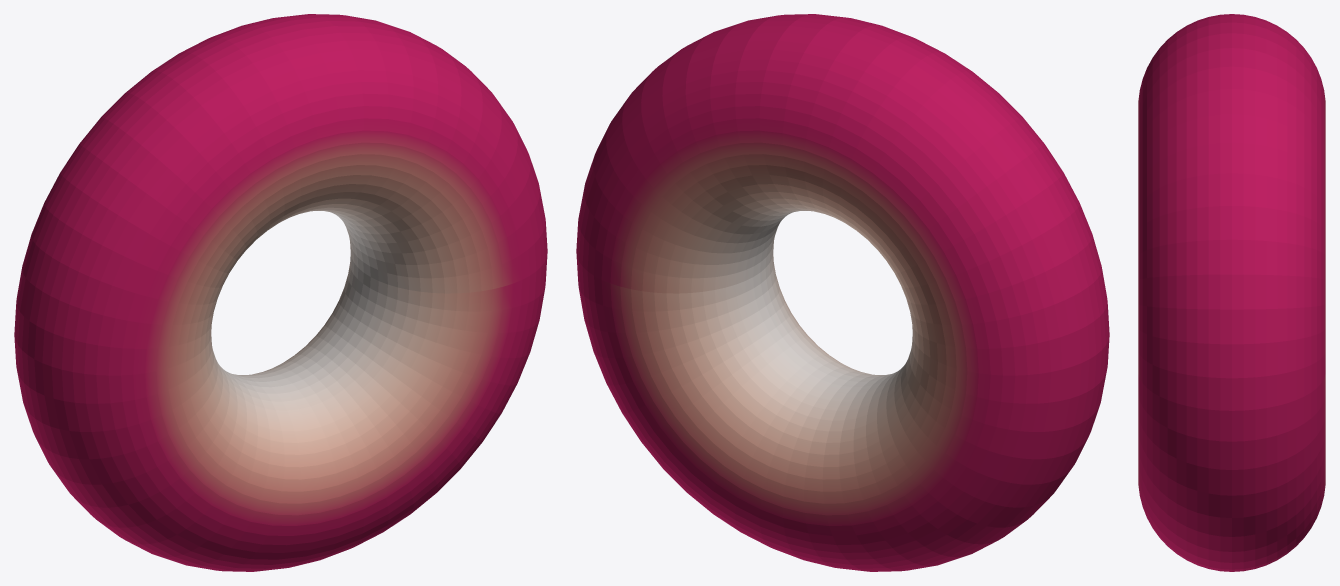
3 views of the same model, side by side, from view 1: azimuth 30°, elevation 25°; view 2: azimuth 150°, elevation 25°; view 3: azimuth 270°, elevation 25° (orthographic). The views are drawn at different scales.
Visible parts, largest first — view 1: world; view 2: world; view 3: world.
Part boxes in pixels (x1,y1,x2,y2): world: (14,14,547,571); world: (576,14,1109,571); world: (1138,14,1325,571).
Bounding box in the file's own units: 28.13 × 28.08 × 9.45.
